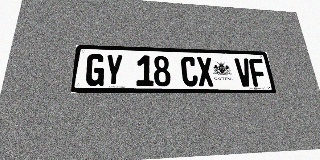1: (136, 55, 153, 86)
8: (153, 56, 171, 86)
C: (180, 56, 198, 86)
F: (248, 58, 268, 87)
G: (85, 54, 105, 86)
V: (234, 58, 253, 87)
X: (196, 57, 214, 86)
Y: (104, 54, 123, 86)
